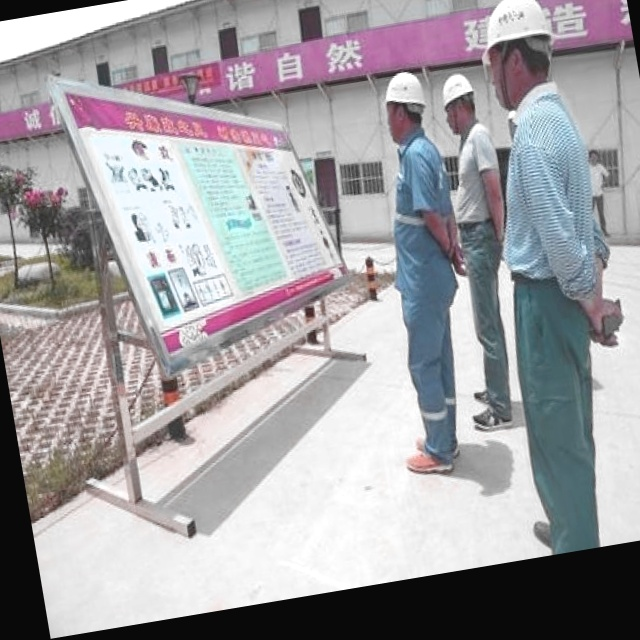Con_Casco: (378, 68, 432, 145), (438, 70, 481, 140)
